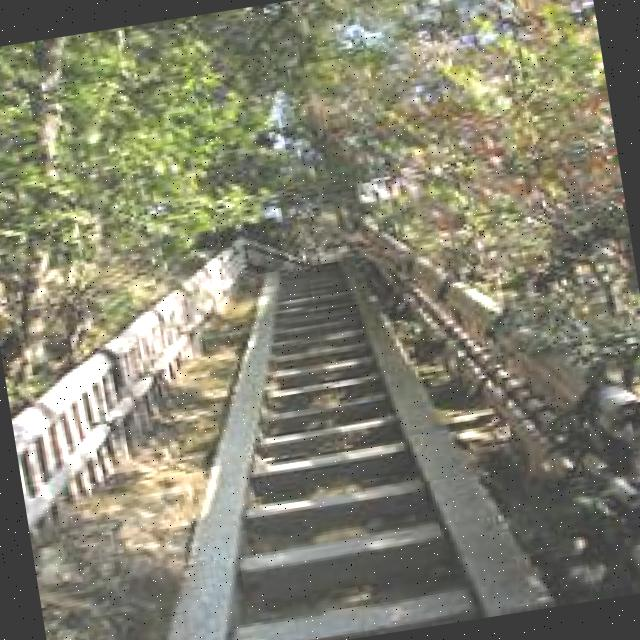stairs: (142, 198, 519, 640)
